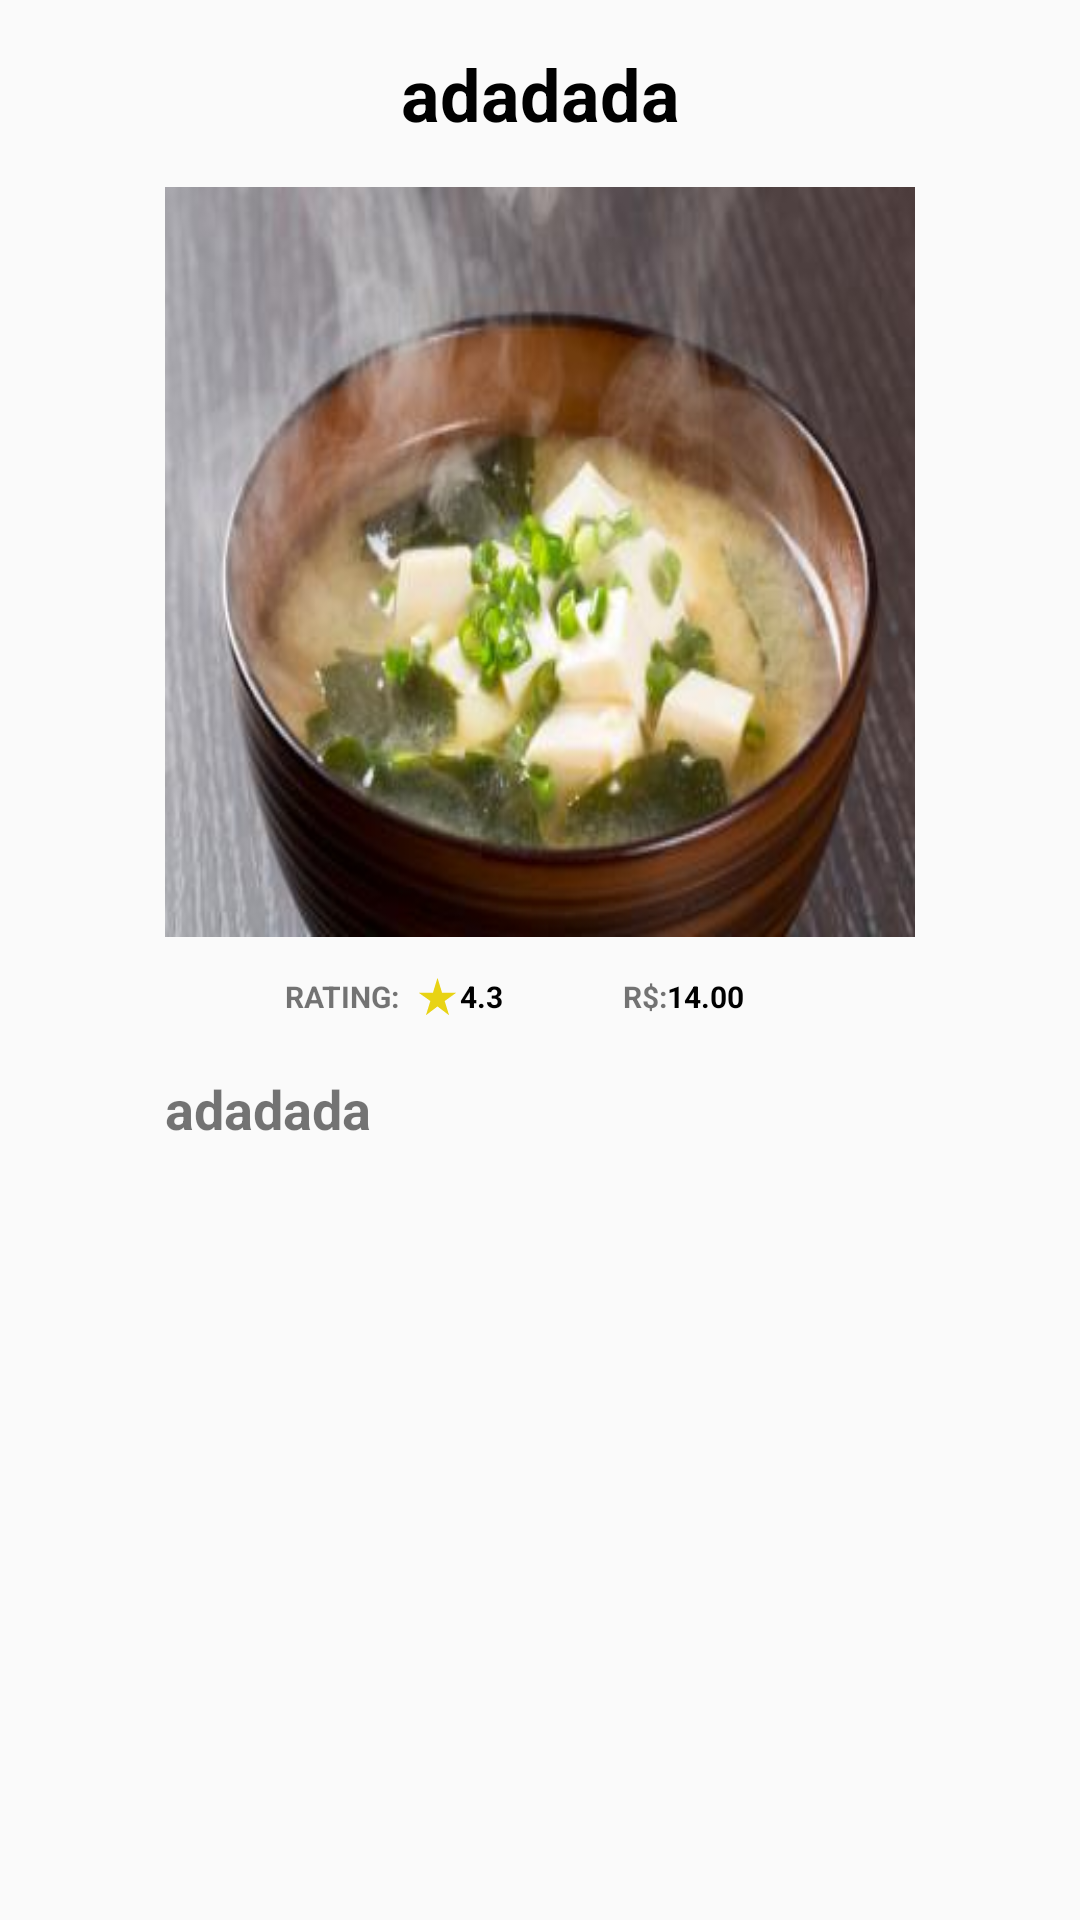

Where to tap for icons on this 1080×1920 app screen, as (x=x, y=y):
star rate: (x=437, y=996)
